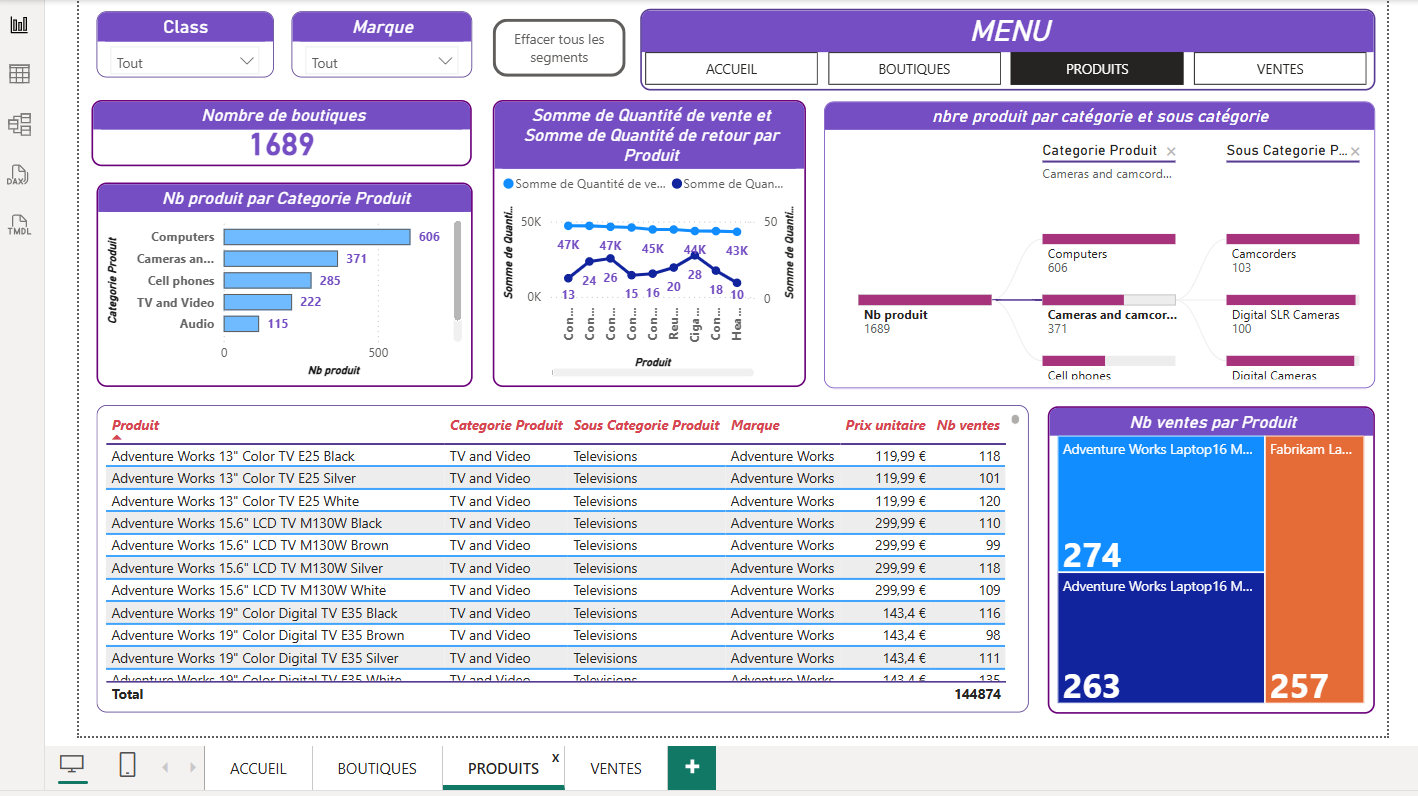

This screenshot's page, from the dashboard's own definition file:
{"tool":"powerbi","page":{"name":"PRODUITS","canvas":[1280,720],"ordinal":2},"visuals":[{"type":"slicer","title":"Class","fields":{"Values":["Produits.Class"]},"box":[16.7,11.1,173.3,64.4],"z":0},{"type":"slicer","title":"Marque","fields":{"Values":["Produits.Marque"]},"box":[207.8,11.1,176.7,64.4],"z":1000},{"type":"card","title":"Nombre de boutiques","fields":{"Values":["Produits.Nb produit"]},"box":[12.2,97.8,372.2,64.4],"z":2000},{"type":"barChart","fields":{"Y":["Produits.Nb produit"],"Category":["Categorie Produits.Categorie Produit"]},"box":[16.7,178.9,367.8,200],"z":3000},{"type":"tableEx","fields":{"Values":["Produits.Produit","Categorie Produits.Categorie Produit","Sous Categories Produits.Sous Categorie Produit","Produits.Marque","Produits.Prix unitaire","sales.Nb ventes"]},"box":[16.7,396.7,912.2,301.1],"z":4000},{"type":"lineChart","fields":{"Category":["Produits.Produit"],"Y":["Sum(sales.Quantité de vente)"],"Y2":["Sum(sales.Quantité de retour)"]},"box":[404.4,97.8,306.7,281.1],"z":5000},{"type":"decompositionTreeVisual","title":"nbre produit par catégorie et sous catégorie","fields":{"ExplainBy":["Categorie Produits.Categorie Produit","Sous Categories Produits.Sous Categorie Produit"],"Analyze":["Produits.Nb produit"]},"box":[728.9,98.9,538.9,281.1],"z":6000},{"type":"treemap","fields":{"Group":["Produits.Produit"],"Values":["sales.Nb ventes"]},"box":[947.8,397.8,320,301.1],"z":7000},{"type":"actionButton","box":[404.4,18.9,130,56.7],"z":8000},{"type":"pageNavigator","title":"MENU","box":[548.9,8.9,718.9,80],"z":9000}]}

Visuals, with their boxes on the page's 1280x720 design canvas (x1, y1, x2, y2). These are canvas units, not pixel positions in the 1418x796 screenshot, which may show the page scaled, cropped or inside an application window:
"Class" slicer: (17, 11, 190, 76)
"Marque" slicer: (208, 11, 384, 76)
"Nombre de boutiques" card: (12, 98, 384, 162)
barChart - Produits.Nb produit x Categorie Produits.Categorie Produit: (17, 179, 384, 379)
tableEx - Produits.Produit x Categorie Produits.Categorie Produit: (17, 397, 929, 698)
lineChart - Produits.Produit x Sum(sales.Quantité de vente): (404, 98, 711, 379)
"nbre produit par catégorie et sous catégorie" decompositionTreeVisual: (729, 99, 1268, 380)
treemap - Produits.Produit x sales.Nb ventes: (948, 398, 1268, 699)
actionButton: (404, 19, 534, 76)
"MENU" pageNavigator: (549, 9, 1268, 89)
